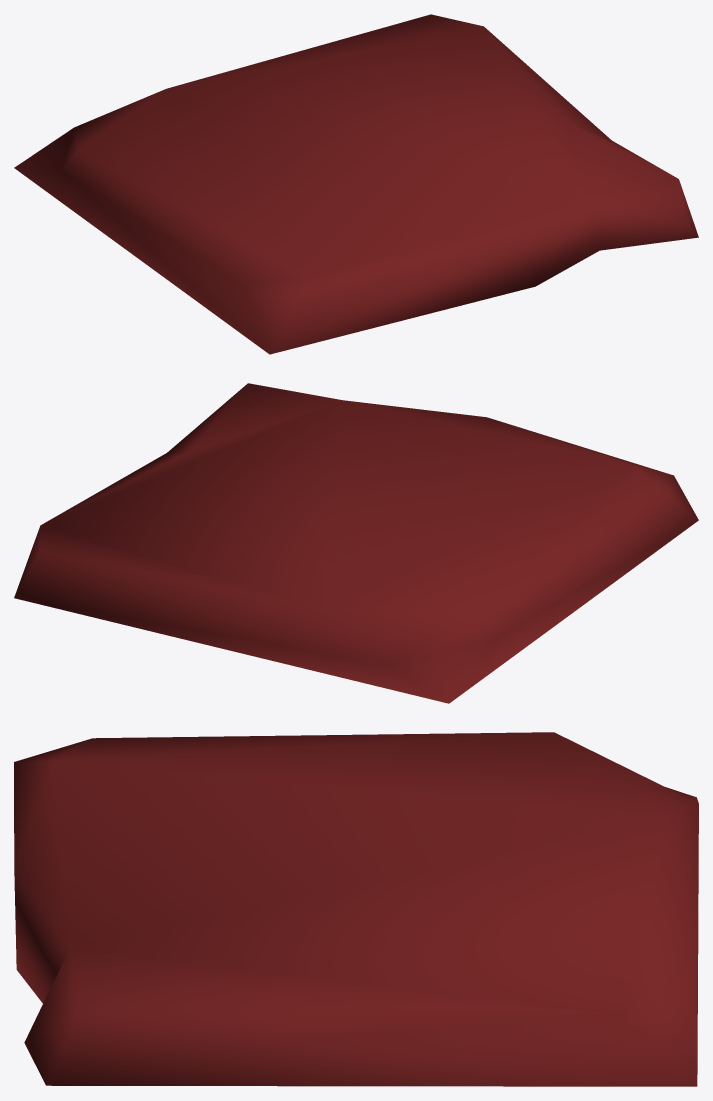
The model's file is SM_stone_plate_03.fbx.
The picture shows the model from 3 angles, top to bottom: view 1: azimuth 30°, elevation 25°; view 2: azimuth 150°, elevation 25°; view 3: azimuth 270°, elevation 25°; orthographic projection. The views are drawn at different scales.
Visible parts, largest first — view 1: stone_plate_03; view 2: stone_plate_03; view 3: stone_plate_03.
Boxes of the visible parts, bbox=[...] form: stone_plate_03: bbox=[14, 14, 698, 354]; stone_plate_03: bbox=[14, 383, 698, 703]; stone_plate_03: bbox=[14, 732, 698, 1086].
Bounding box in the file's own units: 90.72 × 10.65 × 90.76.
